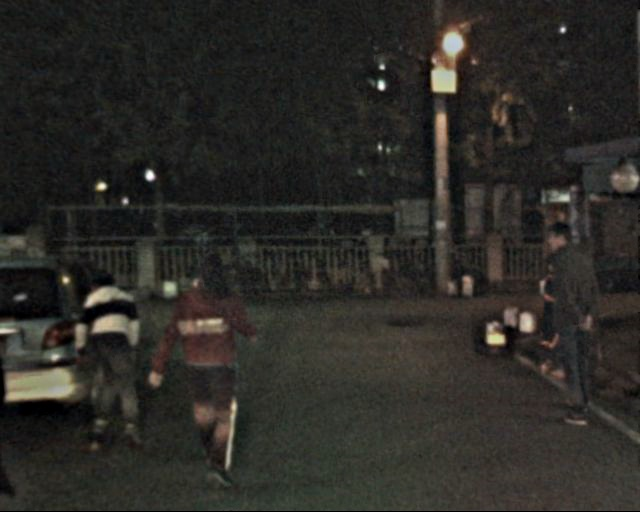person: (163, 243, 256, 483), (533, 211, 611, 435), (71, 260, 153, 456)
